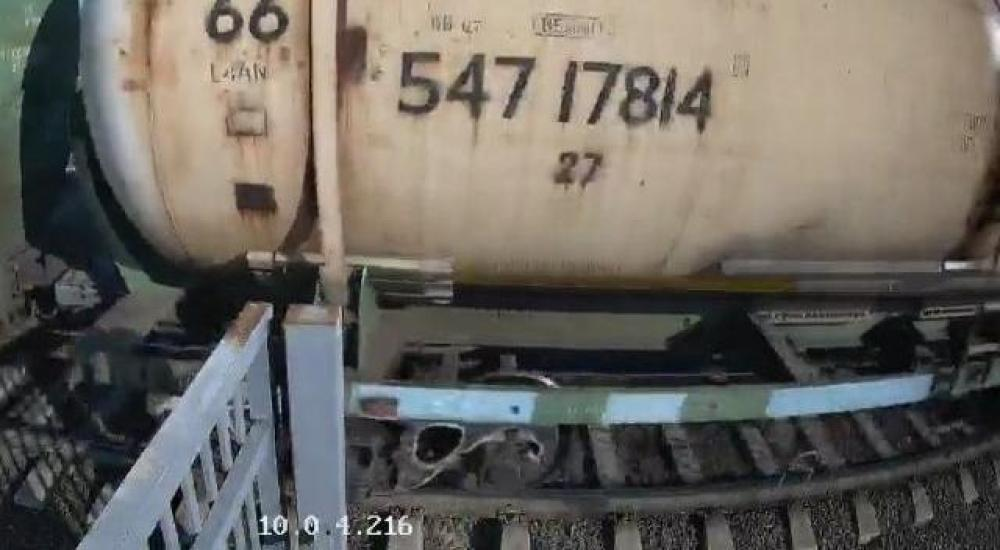Wagon-number: (392, 47, 721, 136)
